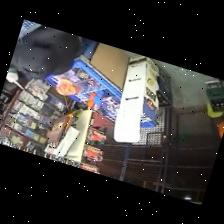person: (6, 25, 89, 86)
